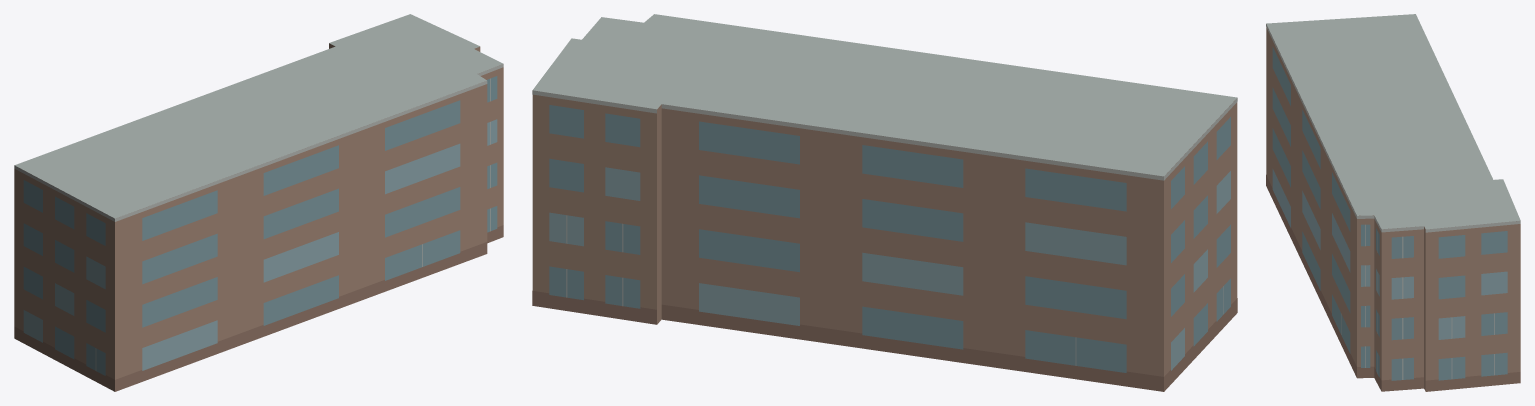
File: survey-upis-32613657.glb
The picture shows the model from 3 angles, left to right: view 1: azimuth 30°, elevation 25°; view 2: azimuth 150°, elevation 25°; view 3: azimuth 270°, elevation 25°; orthographic projection. The views are drawn at different scales.
Parts seen in each view (by area): view 1: survey-upis-32613657.tmp; view 2: survey-upis-32613657.tmp; view 3: survey-upis-32613657.tmp.
Boxes of the visible parts, bbox=[...] form: survey-upis-32613657.tmp: bbox=[14, 14, 503, 391]; survey-upis-32613657.tmp: bbox=[532, 14, 1237, 391]; survey-upis-32613657.tmp: bbox=[1266, 14, 1520, 391].
Bounding box in the file's own units: 35.59 × 12.5 × 17.77.
